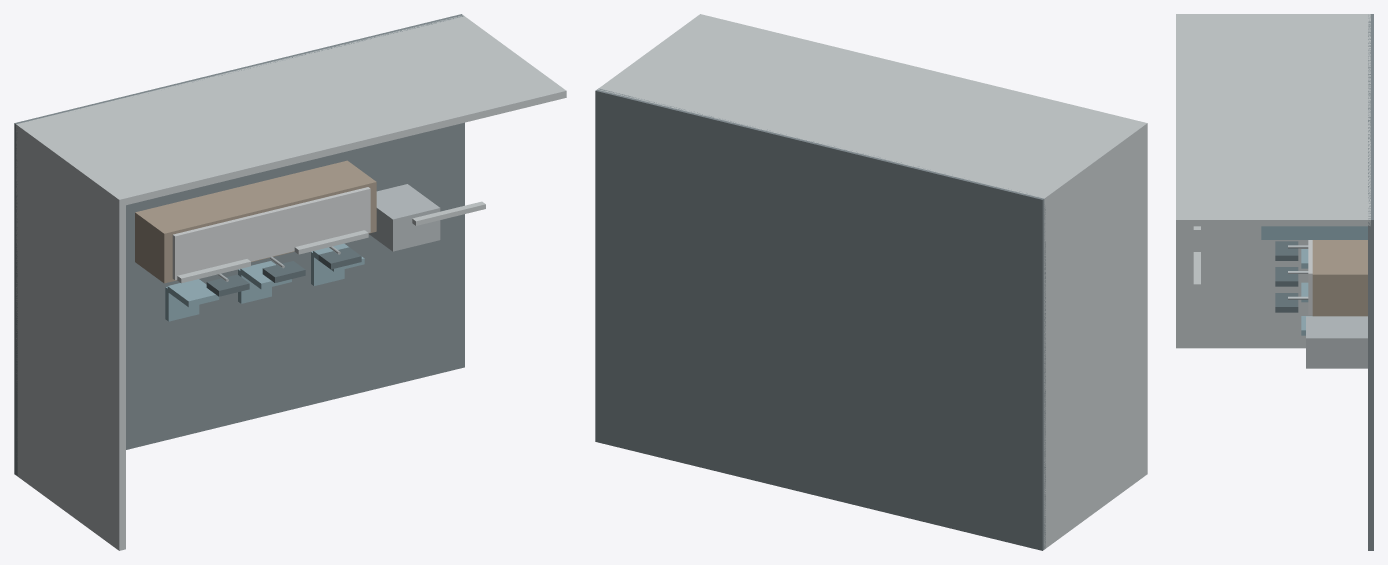
Rendered from nursing-station-high.glb.
The picture shows the model from 3 angles, left to right: view 1: azimuth 30°, elevation 25°; view 2: azimuth 150°, elevation 25°; view 3: azimuth 270°, elevation 25°; orthographic projection. The views are drawn at different scales.
Visible parts, largest first — view 1: floor, wall_back, wall_left, central_desk, desk_top, medication_trolley, chair_back_-1.3, ceiling_panel_2, ceiling_panel_3, ceiling_panel_1; view 2: floor, wall_back, wall_left; view 3: wall_back, wall_left, central_desk, medication_trolley, floor, storage_right, monitor_20, monitor_0, monitor_10, desk_top, ceiling_panel_3.
Boxes of the visible parts, x1,y1,x2,y2 form: floor: (14, 14, 464, 476); wall_back: (16, 15, 566, 206); wall_left: (16, 122, 125, 550); central_desk: (135, 160, 376, 283); desk_top: (172, 187, 370, 280); medication_trolley: (369, 184, 440, 251); chair_back_-1.3: (167, 279, 219, 307); ceiling_panel_2: (294, 230, 368, 254); ceiling_panel_3: (412, 201, 485, 225); ceiling_panel_1: (177, 259, 250, 283); floor: (595, 88, 1045, 550); wall_back: (598, 14, 1147, 204); wall_left: (1038, 121, 1147, 549); wall_back: (1176, 14, 1370, 226); wall_left: (1176, 14, 1370, 348); central_desk: (1312, 240, 1367, 316); medication_trolley: (1306, 316, 1367, 368); floor: (1368, 14, 1373, 550); storage_right: (1261, 226, 1367, 239); monitor_20: (1275, 293, 1298, 312); monitor_0: (1275, 241, 1298, 260); monitor_10: (1275, 267, 1298, 286); desk_top: (1308, 240, 1312, 314); ceiling_panel_3: (1193, 252, 1200, 288).
Bounding box in the file's own units: 8 × 6 × 3.25.
